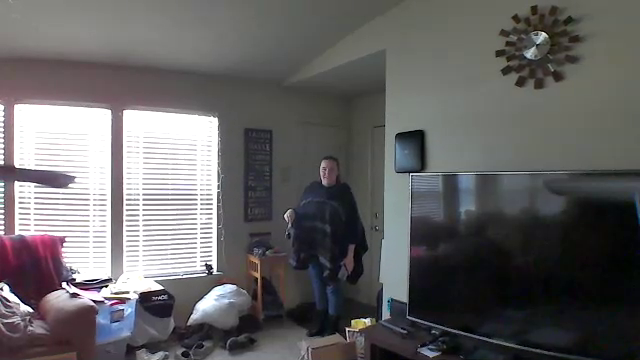down: (278, 202, 298, 229)
